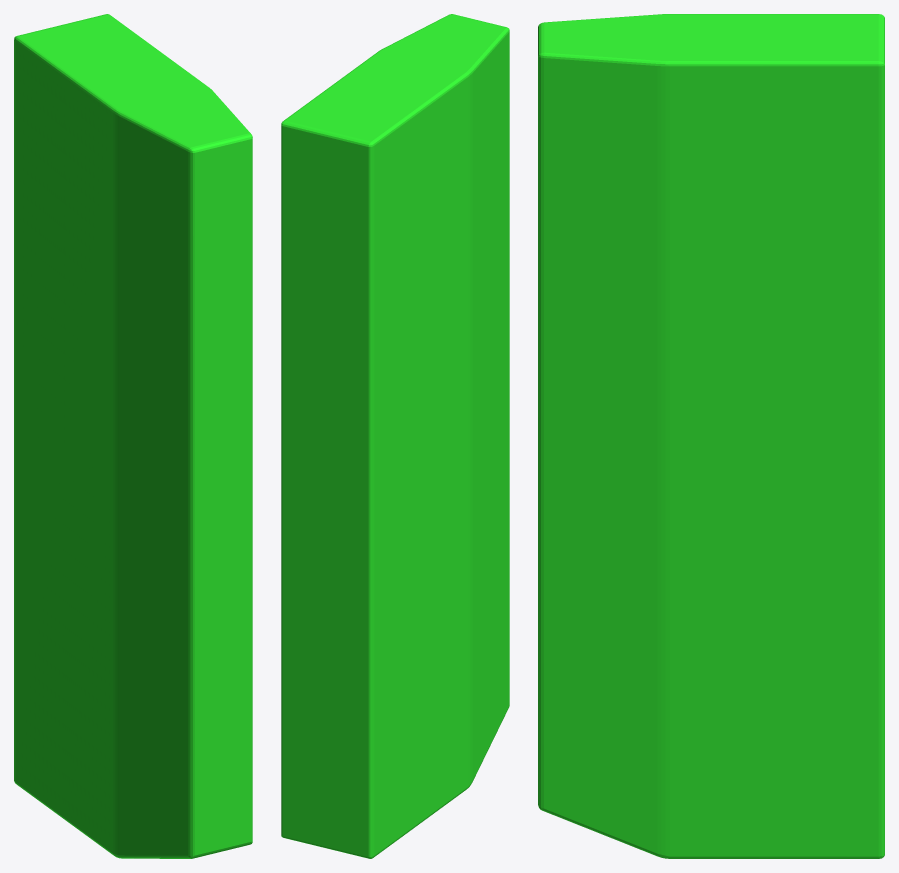
The model's file is Kbdgsharp.obj.
3 renders of one model, left to right at view 1: azimuth 30°, elevation 25°; view 2: azimuth 150°, elevation 25°; view 3: azimuth 270°, elevation 25°, orthographic. The views are drawn at different scales.
Visible parts, largest first — view 1: Kbdgsharp; view 2: Kbdgsharp; view 3: Kbdgsharp.
Boxes of the visible parts, box(x1,y1,x2,y2) form: Kbdgsharp: box(14, 14, 252, 858); Kbdgsharp: box(281, 14, 509, 858); Kbdgsharp: box(538, 14, 884, 858).
Size of the model in its own units: 0.0941 by 0.6999 by 0.2759.
